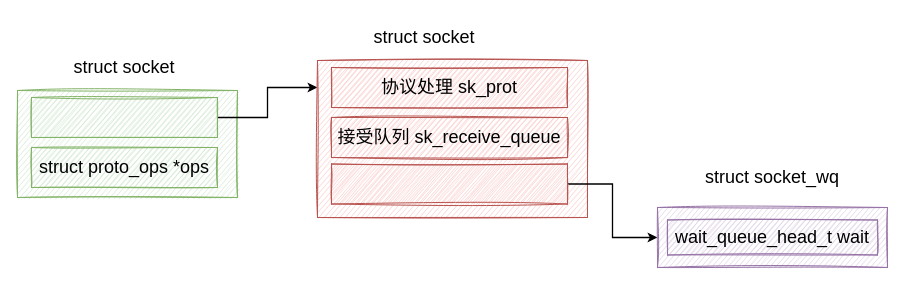
The diagram is 905 pixels wide and 285 high, and some of its shapes have lost their labels. Each missing label, with the centre of its shape:
"struct sock *sk" goes at (x=124, y=117).
"等待队列 *sk_wq" goes at (x=449, y=183).
